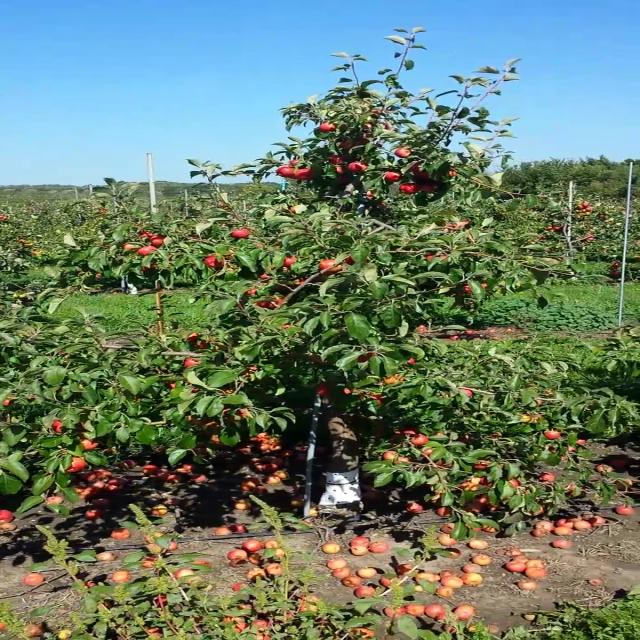apple: (392, 428, 420, 444), (317, 258, 343, 274), (381, 372, 407, 386), (221, 408, 250, 420), (411, 162, 429, 180), (254, 297, 284, 307), (199, 421, 224, 433), (183, 414, 212, 424), (65, 458, 85, 470), (278, 167, 298, 179), (457, 482, 483, 491), (358, 394, 382, 403), (473, 494, 491, 506), (355, 352, 376, 362), (80, 439, 100, 449), (463, 502, 483, 512), (425, 254, 449, 262), (349, 162, 367, 172), (232, 229, 252, 237), (206, 256, 222, 266), (412, 434, 428, 444), (401, 183, 417, 193), (394, 147, 410, 157), (297, 169, 313, 179), (320, 122, 336, 132), (394, 456, 414, 464), (386, 172, 401, 182), (138, 246, 156, 254), (287, 277, 305, 285), (481, 476, 493, 488), (538, 473, 556, 481), (185, 357, 200, 366), (284, 256, 297, 266), (316, 383, 329, 393), (545, 431, 561, 439), (338, 141, 354, 149), (150, 236, 164, 245), (476, 460, 491, 468), (469, 475, 482, 483), (54, 420, 62, 432), (384, 451, 396, 459), (460, 388, 472, 396), (419, 185, 434, 191), (509, 476, 518, 486), (330, 156, 341, 164), (188, 332, 198, 340), (366, 189, 374, 199), (124, 243, 136, 249), (463, 285, 472, 293), (247, 289, 259, 295), (346, 256, 356, 263), (423, 449, 433, 455), (335, 167, 345, 173), (288, 158, 297, 164), (141, 232, 154, 236), (2, 400, 10, 406), (248, 366, 258, 370), (407, 358, 415, 363), (200, 342, 206, 348), (261, 273, 267, 278), (171, 382, 176, 388), (537, 399, 542, 405), (450, 171, 455, 177), (290, 206, 295, 212), (480, 282, 487, 286), (193, 388, 199, 392), (283, 325, 289, 327)
